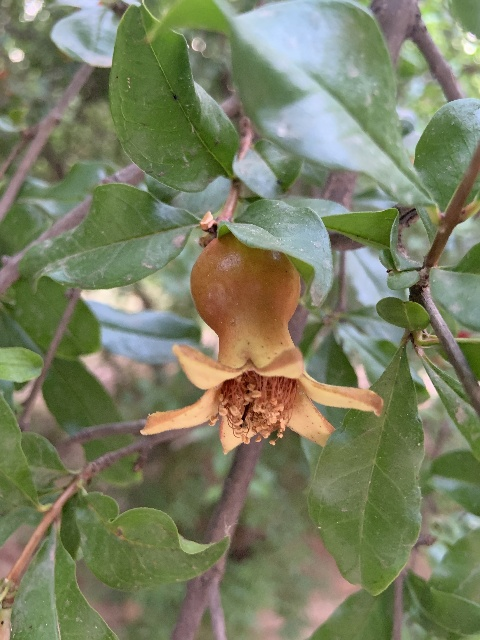early-fruit: (137, 230, 382, 455)
